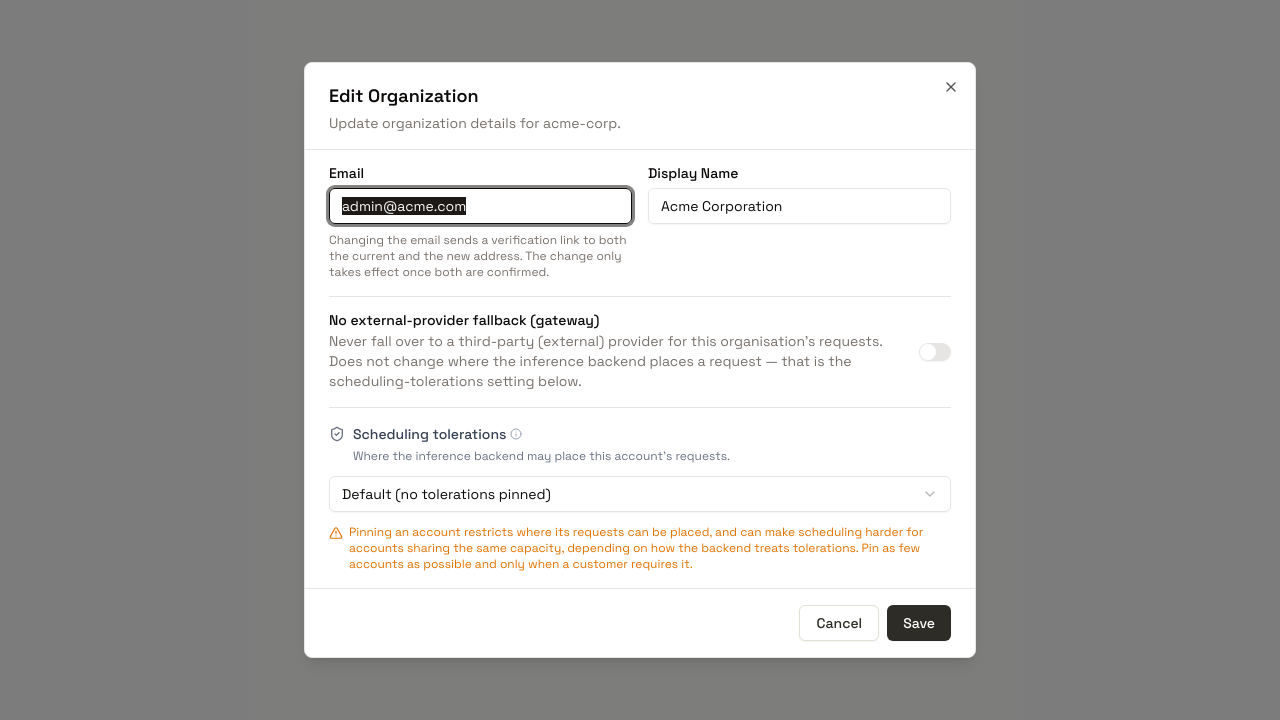
Test: serving setting authorization and cancellation › discards cancelled serving edits when reopening the same organization
The image size is (1280, 720).
Later steps or results of the test are not shown.
Click the switch named "Toggle no external-provider fallback".
click(935, 352)  # box left=919, top=343, right=951, bottom=361
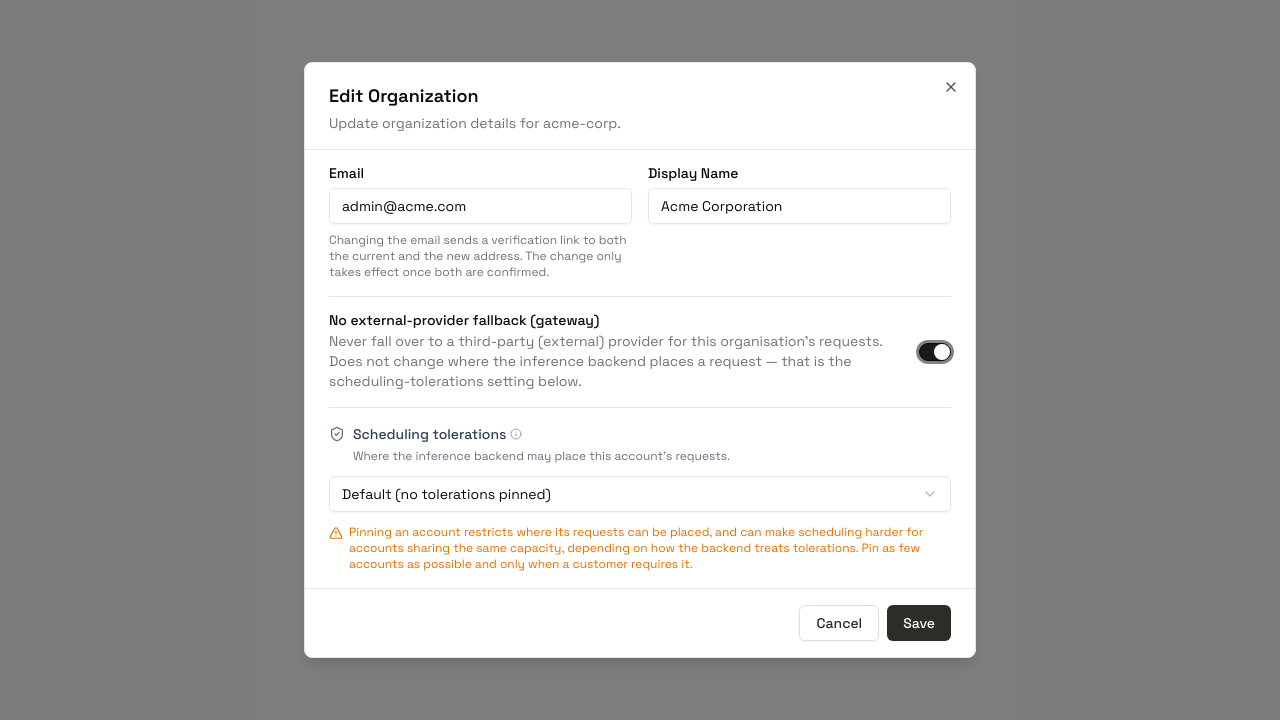
Expected: the switch named "Toggle no external-provider fallback" is checked, left=919, top=343, right=951, bottom=361
